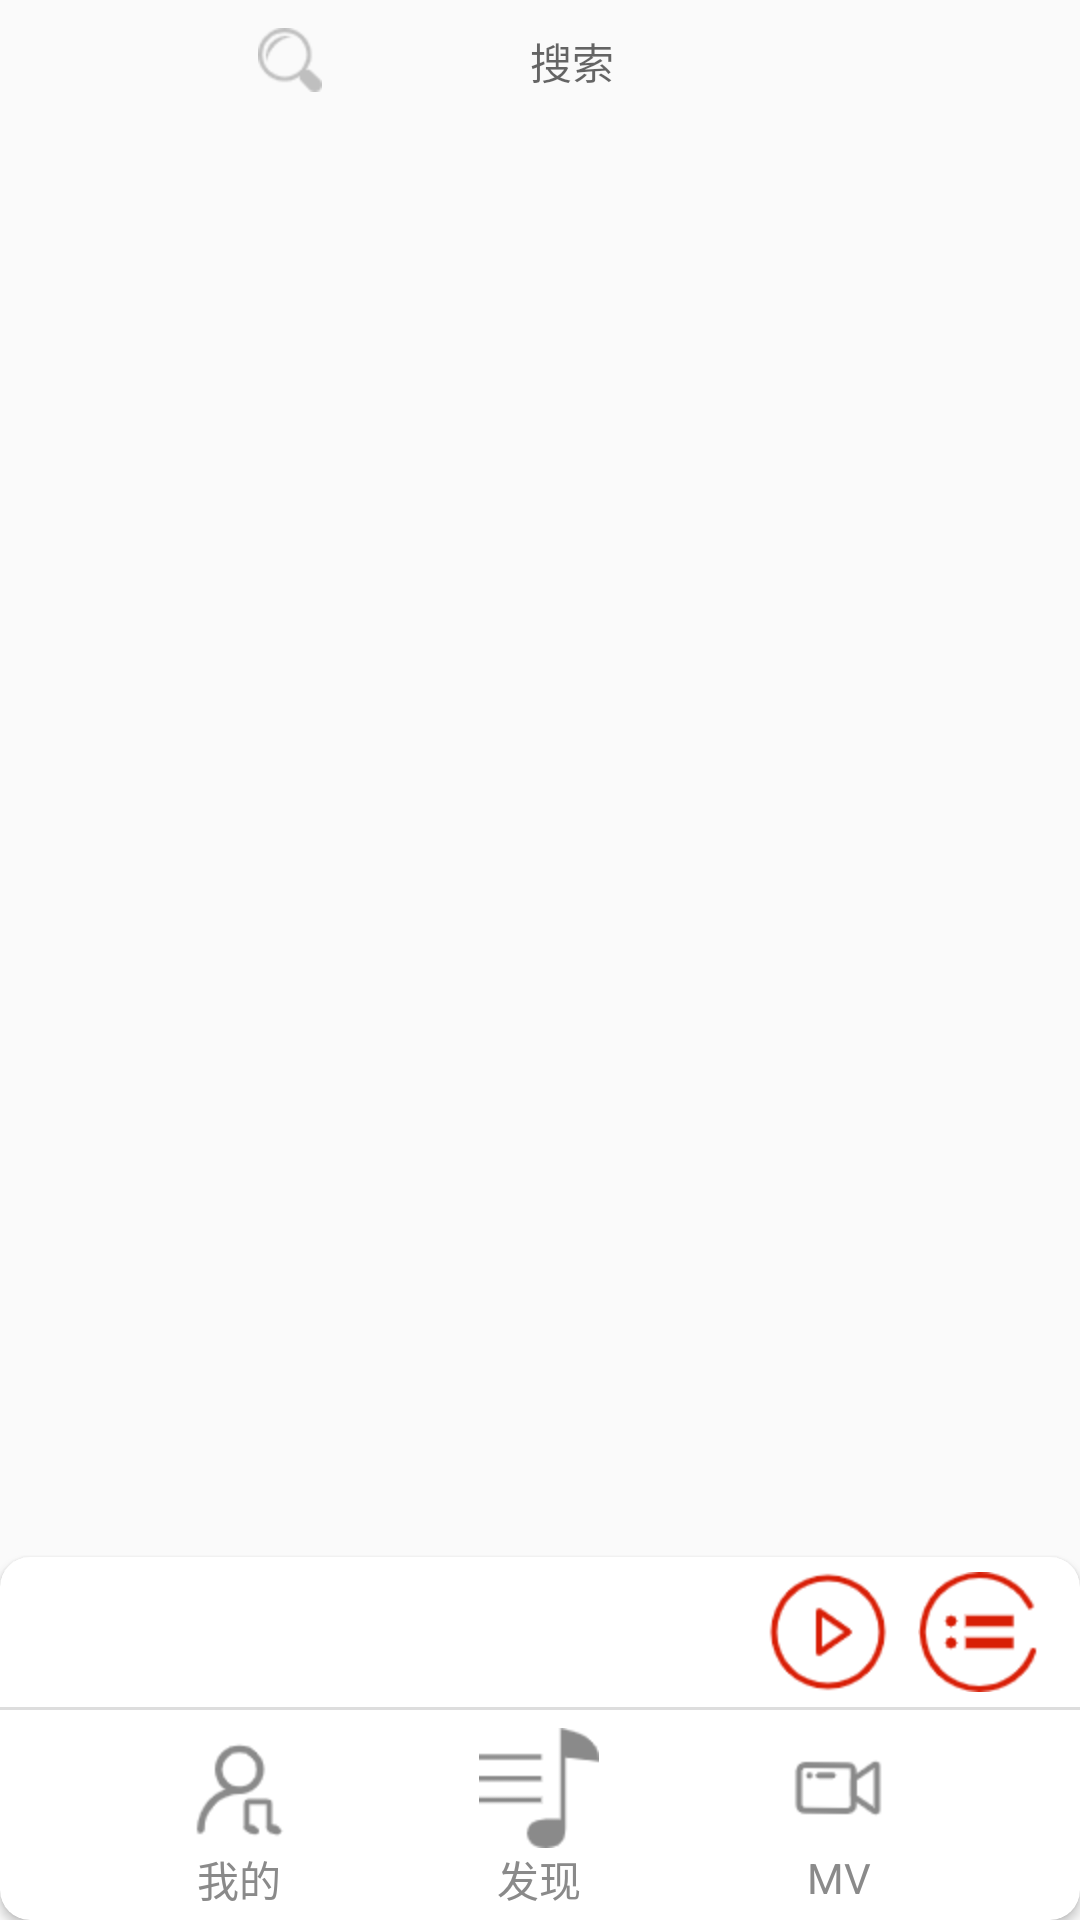

Screen size 1080w x 1920h. Icon name, then its box in pixels as {"x1": x1, "y1": y1, "x2": x2, "y2": y2}:
current list: {"x1": 918, "y1": 1572, "x2": 1037, "y2": 1692}
start: {"x1": 769, "y1": 1573, "x2": 887, "y2": 1691}
